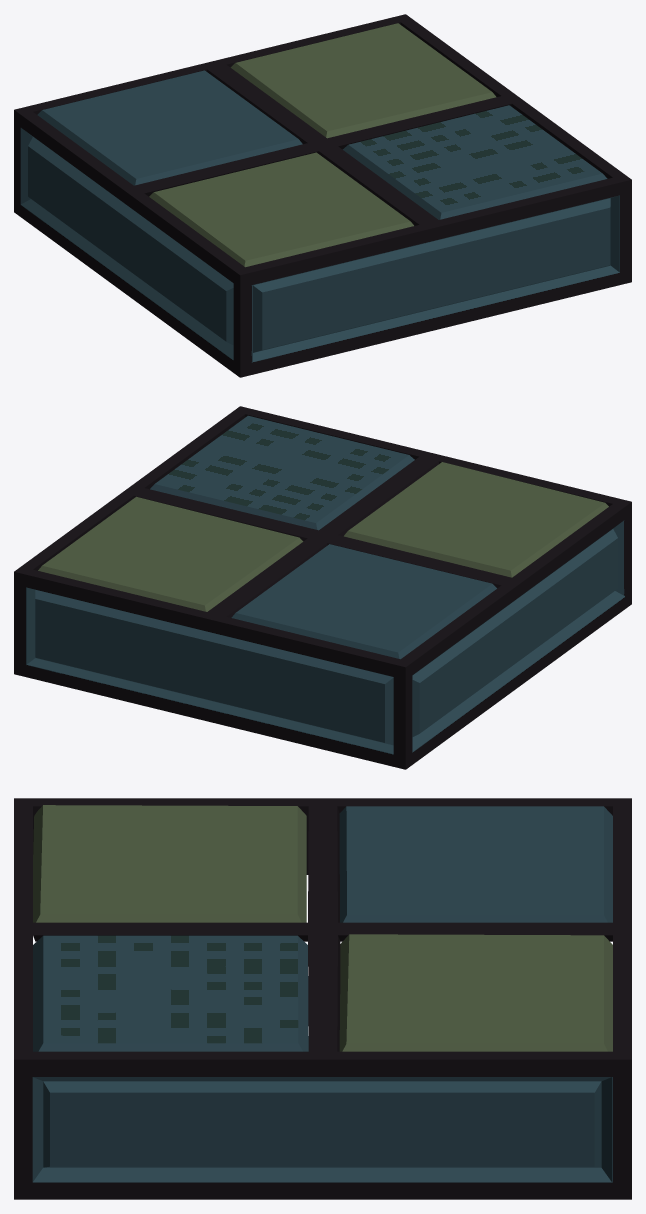
The model's file is Floor_Tiled_01.glb.
The picture shows the model from 3 angles, top to bottom: view 1: azimuth 30°, elevation 25°; view 2: azimuth 150°, elevation 25°; view 3: azimuth 270°, elevation 25°; orthographic projection. The views are drawn at different scales.
Parts seen in each view (by area): view 1: Floor_Tiled_01; view 2: Floor_Tiled_01; view 3: Floor_Tiled_01.
Boxes of the visible parts, x1,y1,x2,y2 form: Floor_Tiled_01: [14, 14, 631, 377]; Floor_Tiled_01: [14, 406, 631, 769]; Floor_Tiled_01: [14, 798, 631, 1199].
Size of the model in its own units: 1 by 0.257 by 1.
Materials: 1 (1 with a texture image).
